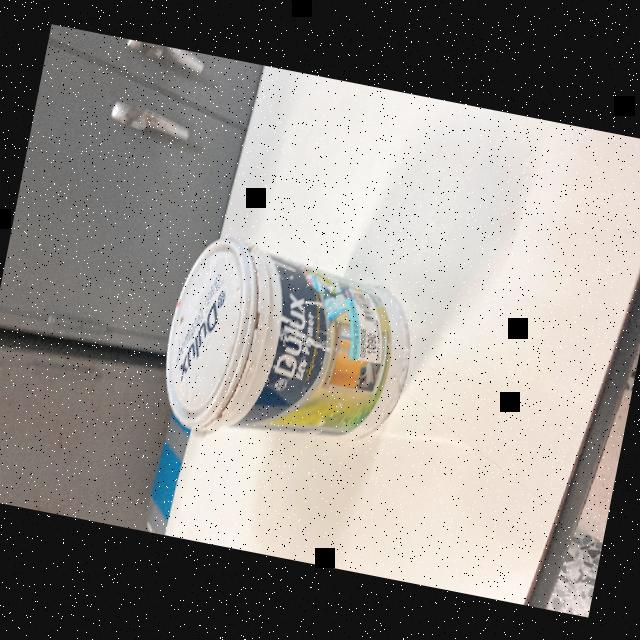paint_bucket: (142, 225, 429, 468)
